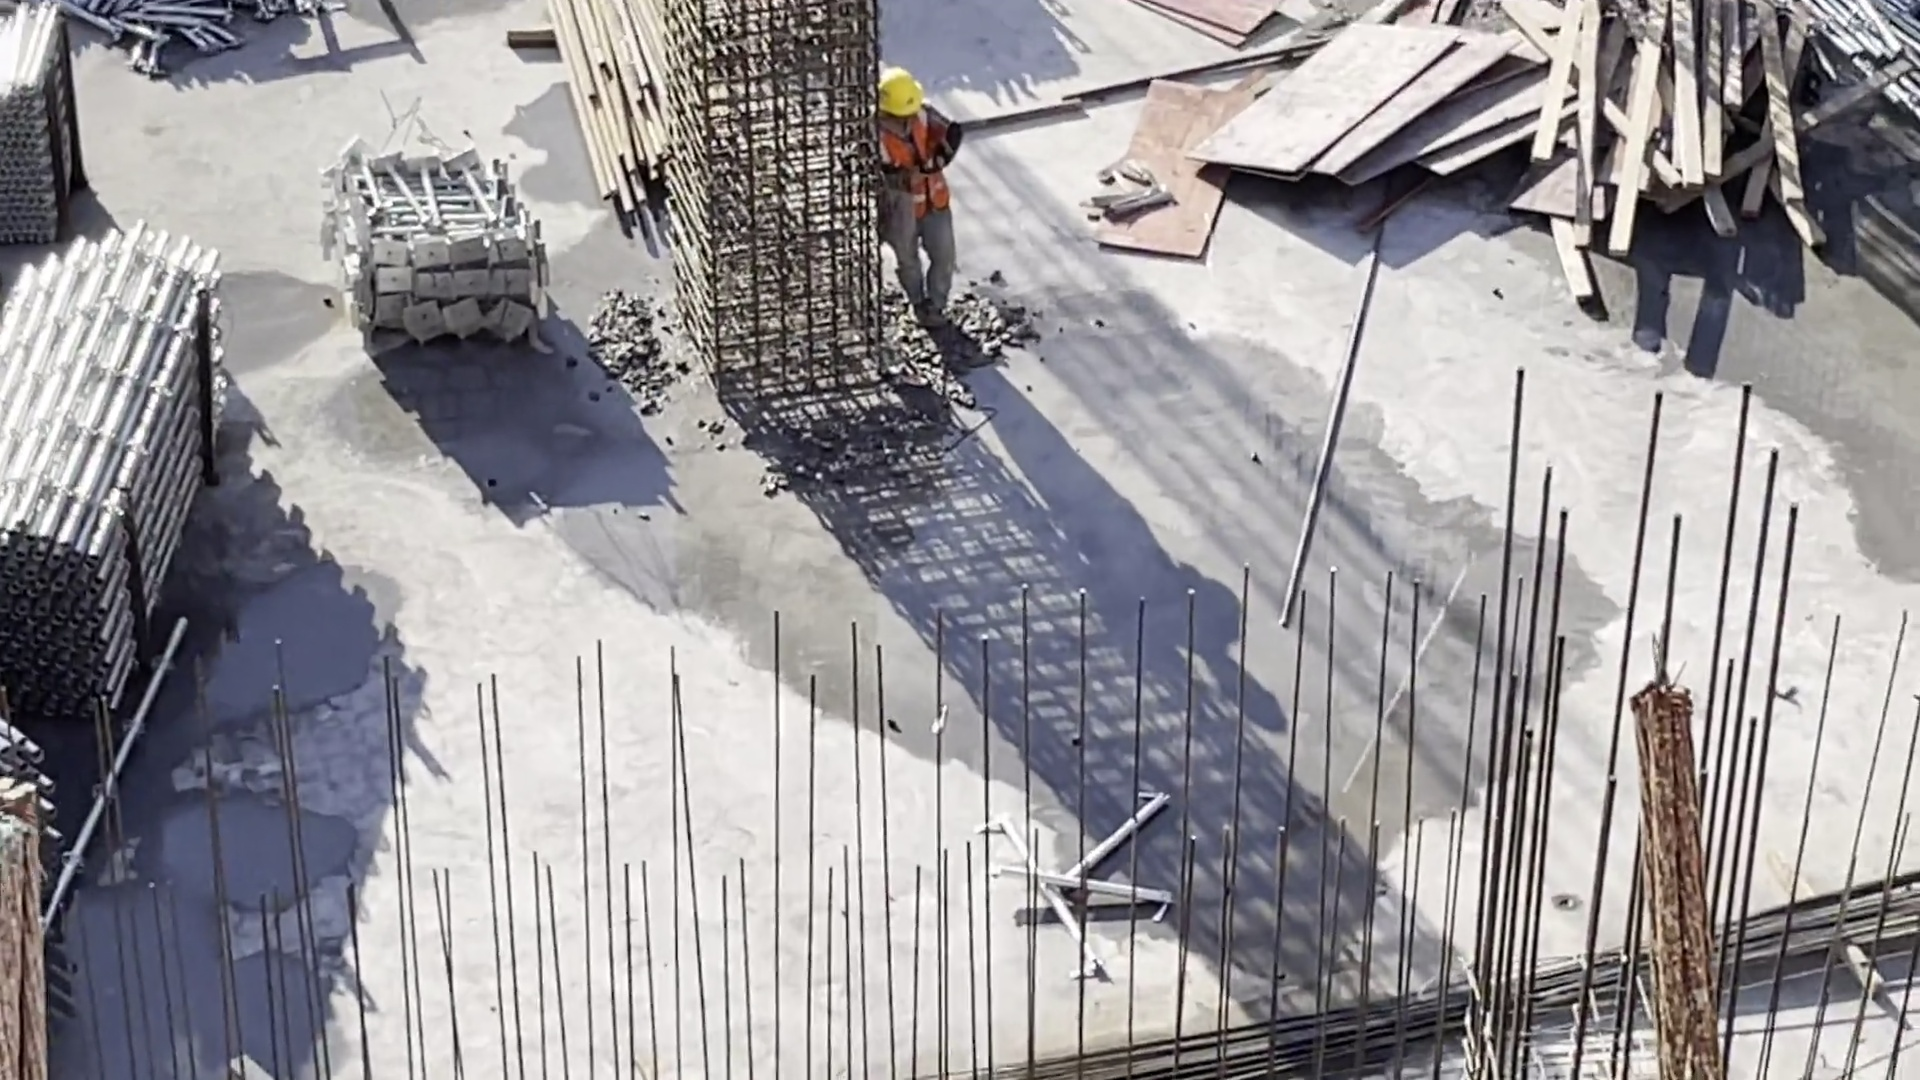board: (1186, 23, 1547, 209)
helmet: (880, 74, 923, 115)
person: (860, 63, 988, 327)
rebar: (982, 869, 1915, 1076)
scaffold: (1, 224, 248, 683), (311, 131, 549, 356), (5, 1, 82, 241)
vest: (867, 108, 956, 208)
wood: (1563, 2, 1788, 251)
